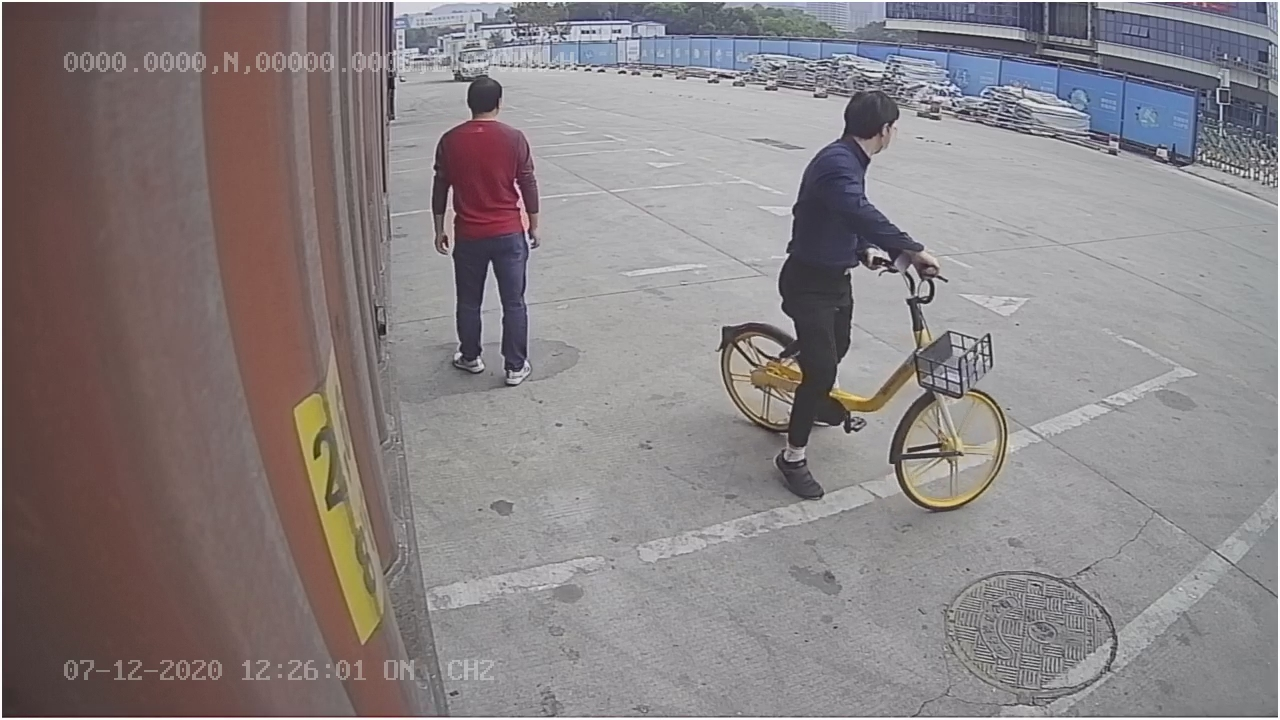person: (427, 75, 548, 389)
